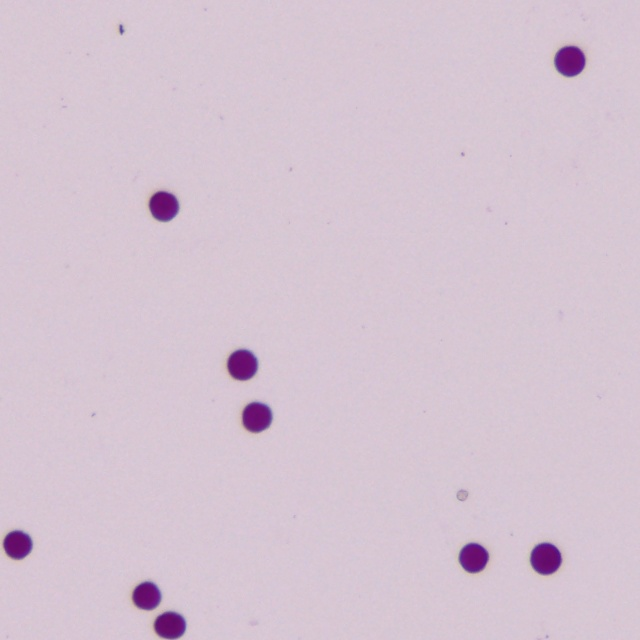viable: (133, 583, 185, 639), (531, 543, 561, 574), (555, 47, 584, 76), (228, 350, 257, 379), (243, 403, 271, 432), (460, 544, 488, 572), (150, 192, 178, 220), (4, 531, 32, 559), (155, 613, 185, 638), (133, 582, 160, 609)
